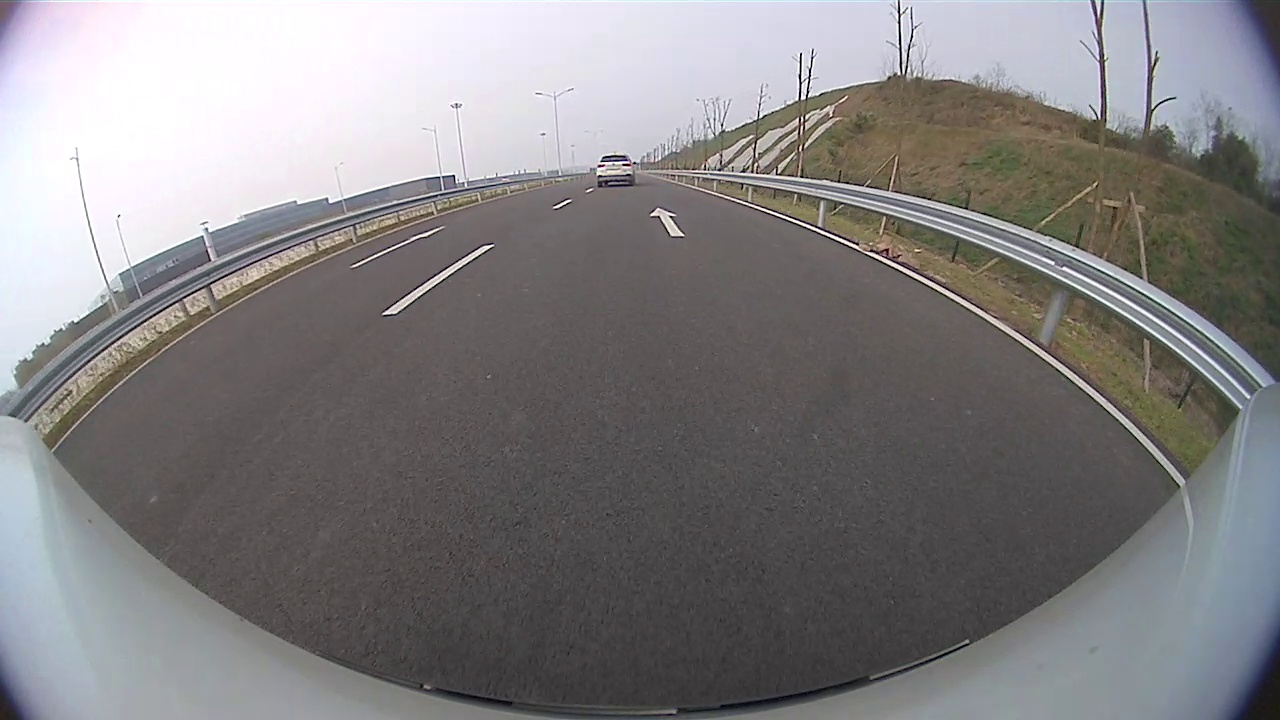car: (595, 153, 637, 189)
